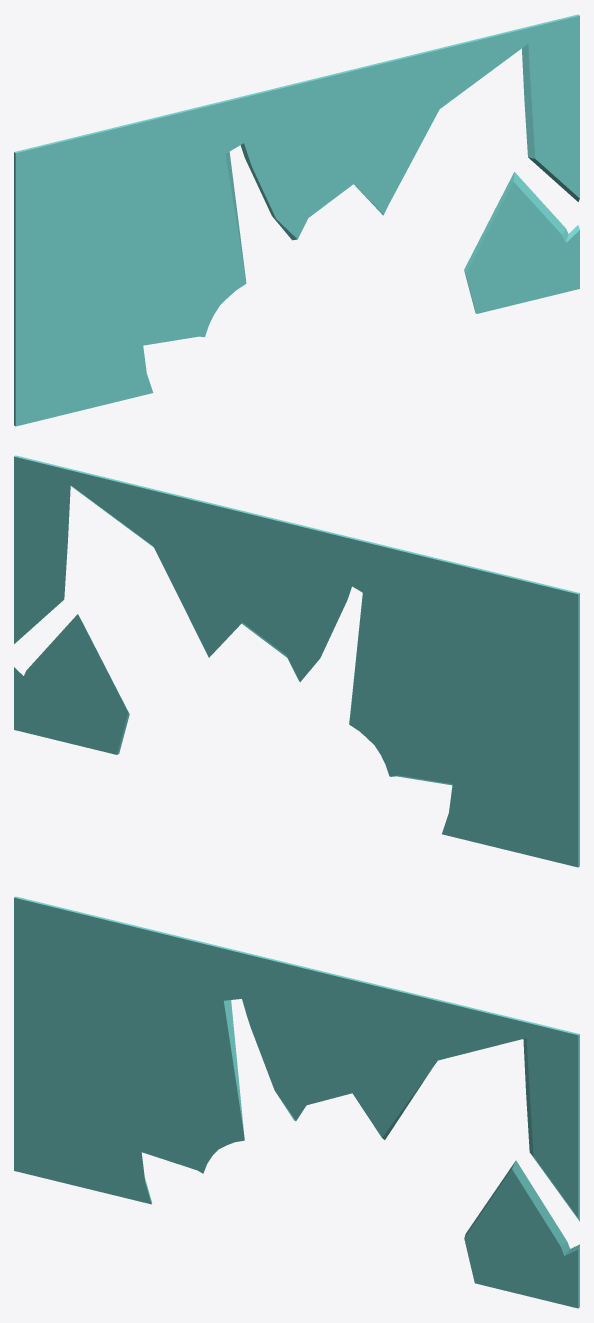
Rendered from Glass Long Destroyed B.fbx.
3 views of the same model, one above another, from view 1: azimuth 30°, elevation 25°; view 2: azimuth 150°, elevation 25°; view 3: azimuth 330°, elevation 25° (orthographic).
Visible parts, largest first — view 1: Glass destroyed Long B; view 2: Glass destroyed Long B; view 3: Glass destroyed Long B.
Boxes of the visible parts, <box> form: Glass destroyed Long B: <box>14,14,579,426</box>; Glass destroyed Long B: <box>14,455,579,867</box>; Glass destroyed Long B: <box>14,896,579,1308</box>.
Bounding box in the file's own units: 1.94 × 0.9 × 0.01.
